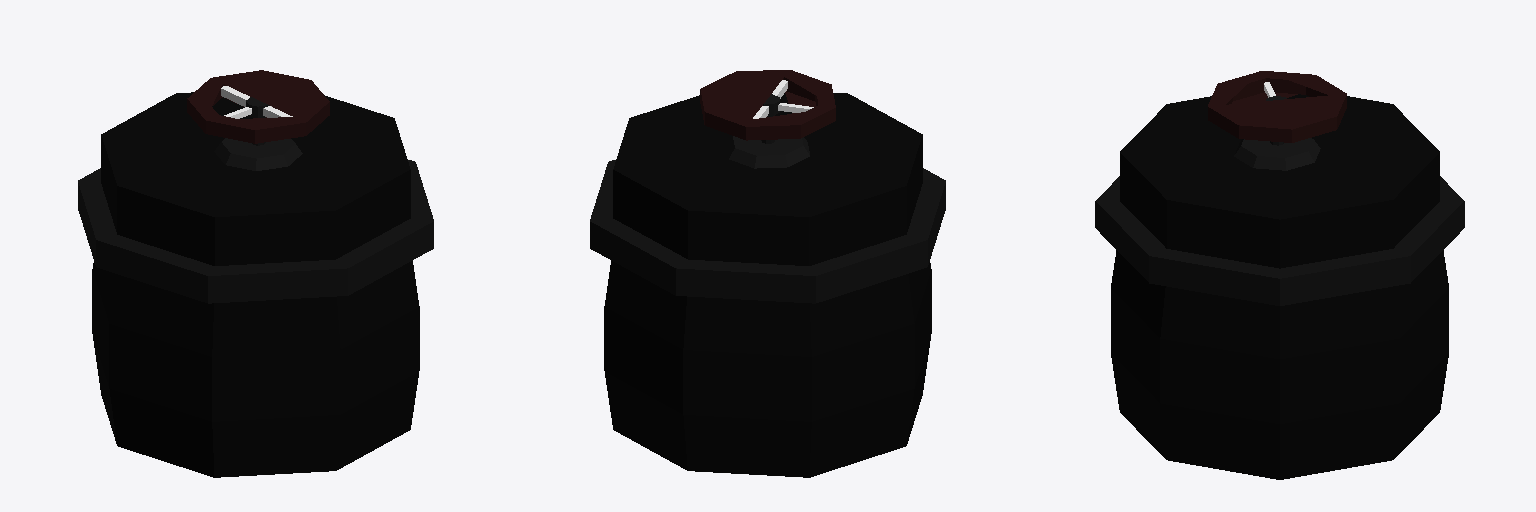
The model's file is Drum_2.obj.
3 views of the same model, side by side, from view 1: azimuth 30°, elevation 25°; view 2: azimuth 150°, elevation 25°; view 3: azimuth 270°, elevation 25° (orthographic).
Parts seen in each view (by area): view 1: Cylinder.003; view 2: Cylinder.003; view 3: Cylinder.003.
Part boxes in pixels (left/top/right/bottom): Cylinder.003: left=78, top=70, right=433, bottom=477; Cylinder.003: left=590, top=70, right=945, bottom=477; Cylinder.003: left=1095, top=71, right=1464, bottom=479.
Size of the model in its own units: 0.9418 by 0.881 by 0.9418.